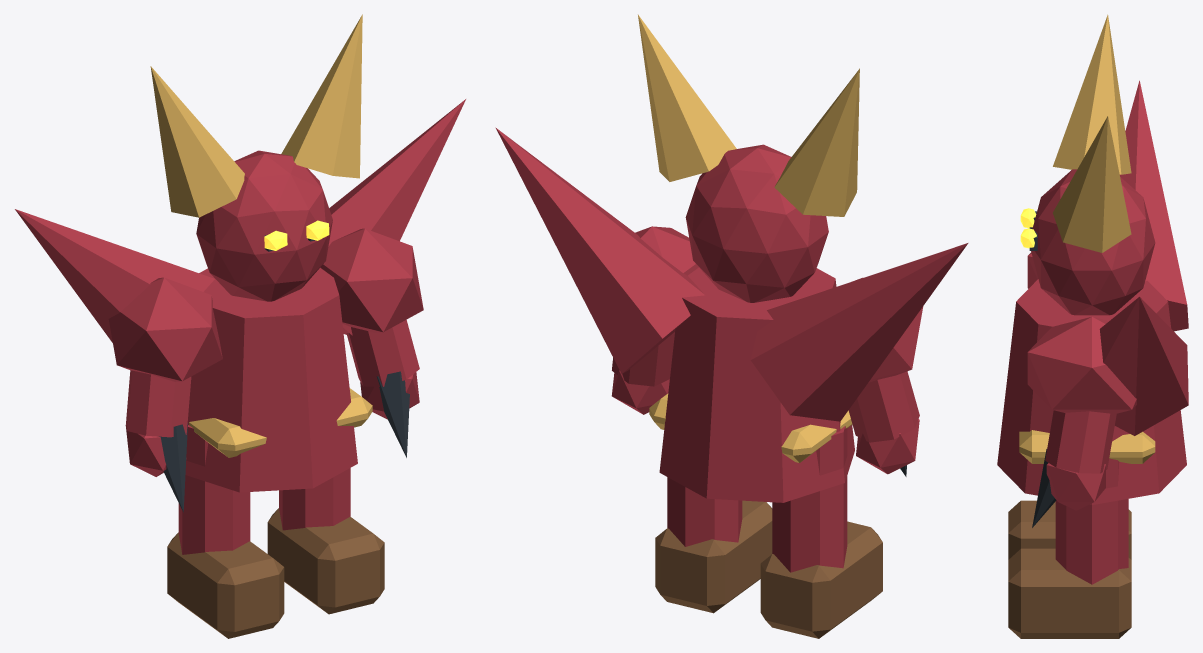
Rendered from demon.glb.
The picture shows the model from 3 angles, left to right: view 1: azimuth 30°, elevation 25°; view 2: azimuth 150°, elevation 25°; view 3: azimuth 270°, elevation 25°; orthographic projection. The views are drawn at different scales.
Visible parts, largest first — view 1: demon; view 2: demon; view 3: demon.
Boxes of the visible parts, x1,y1,x2,y2 form: demon: (15,14,465,638); demon: (495,14,968,638); demon: (997,14,1188,638).
Size of the model in its own units: 1.62 by 1.88 by 0.6054.
